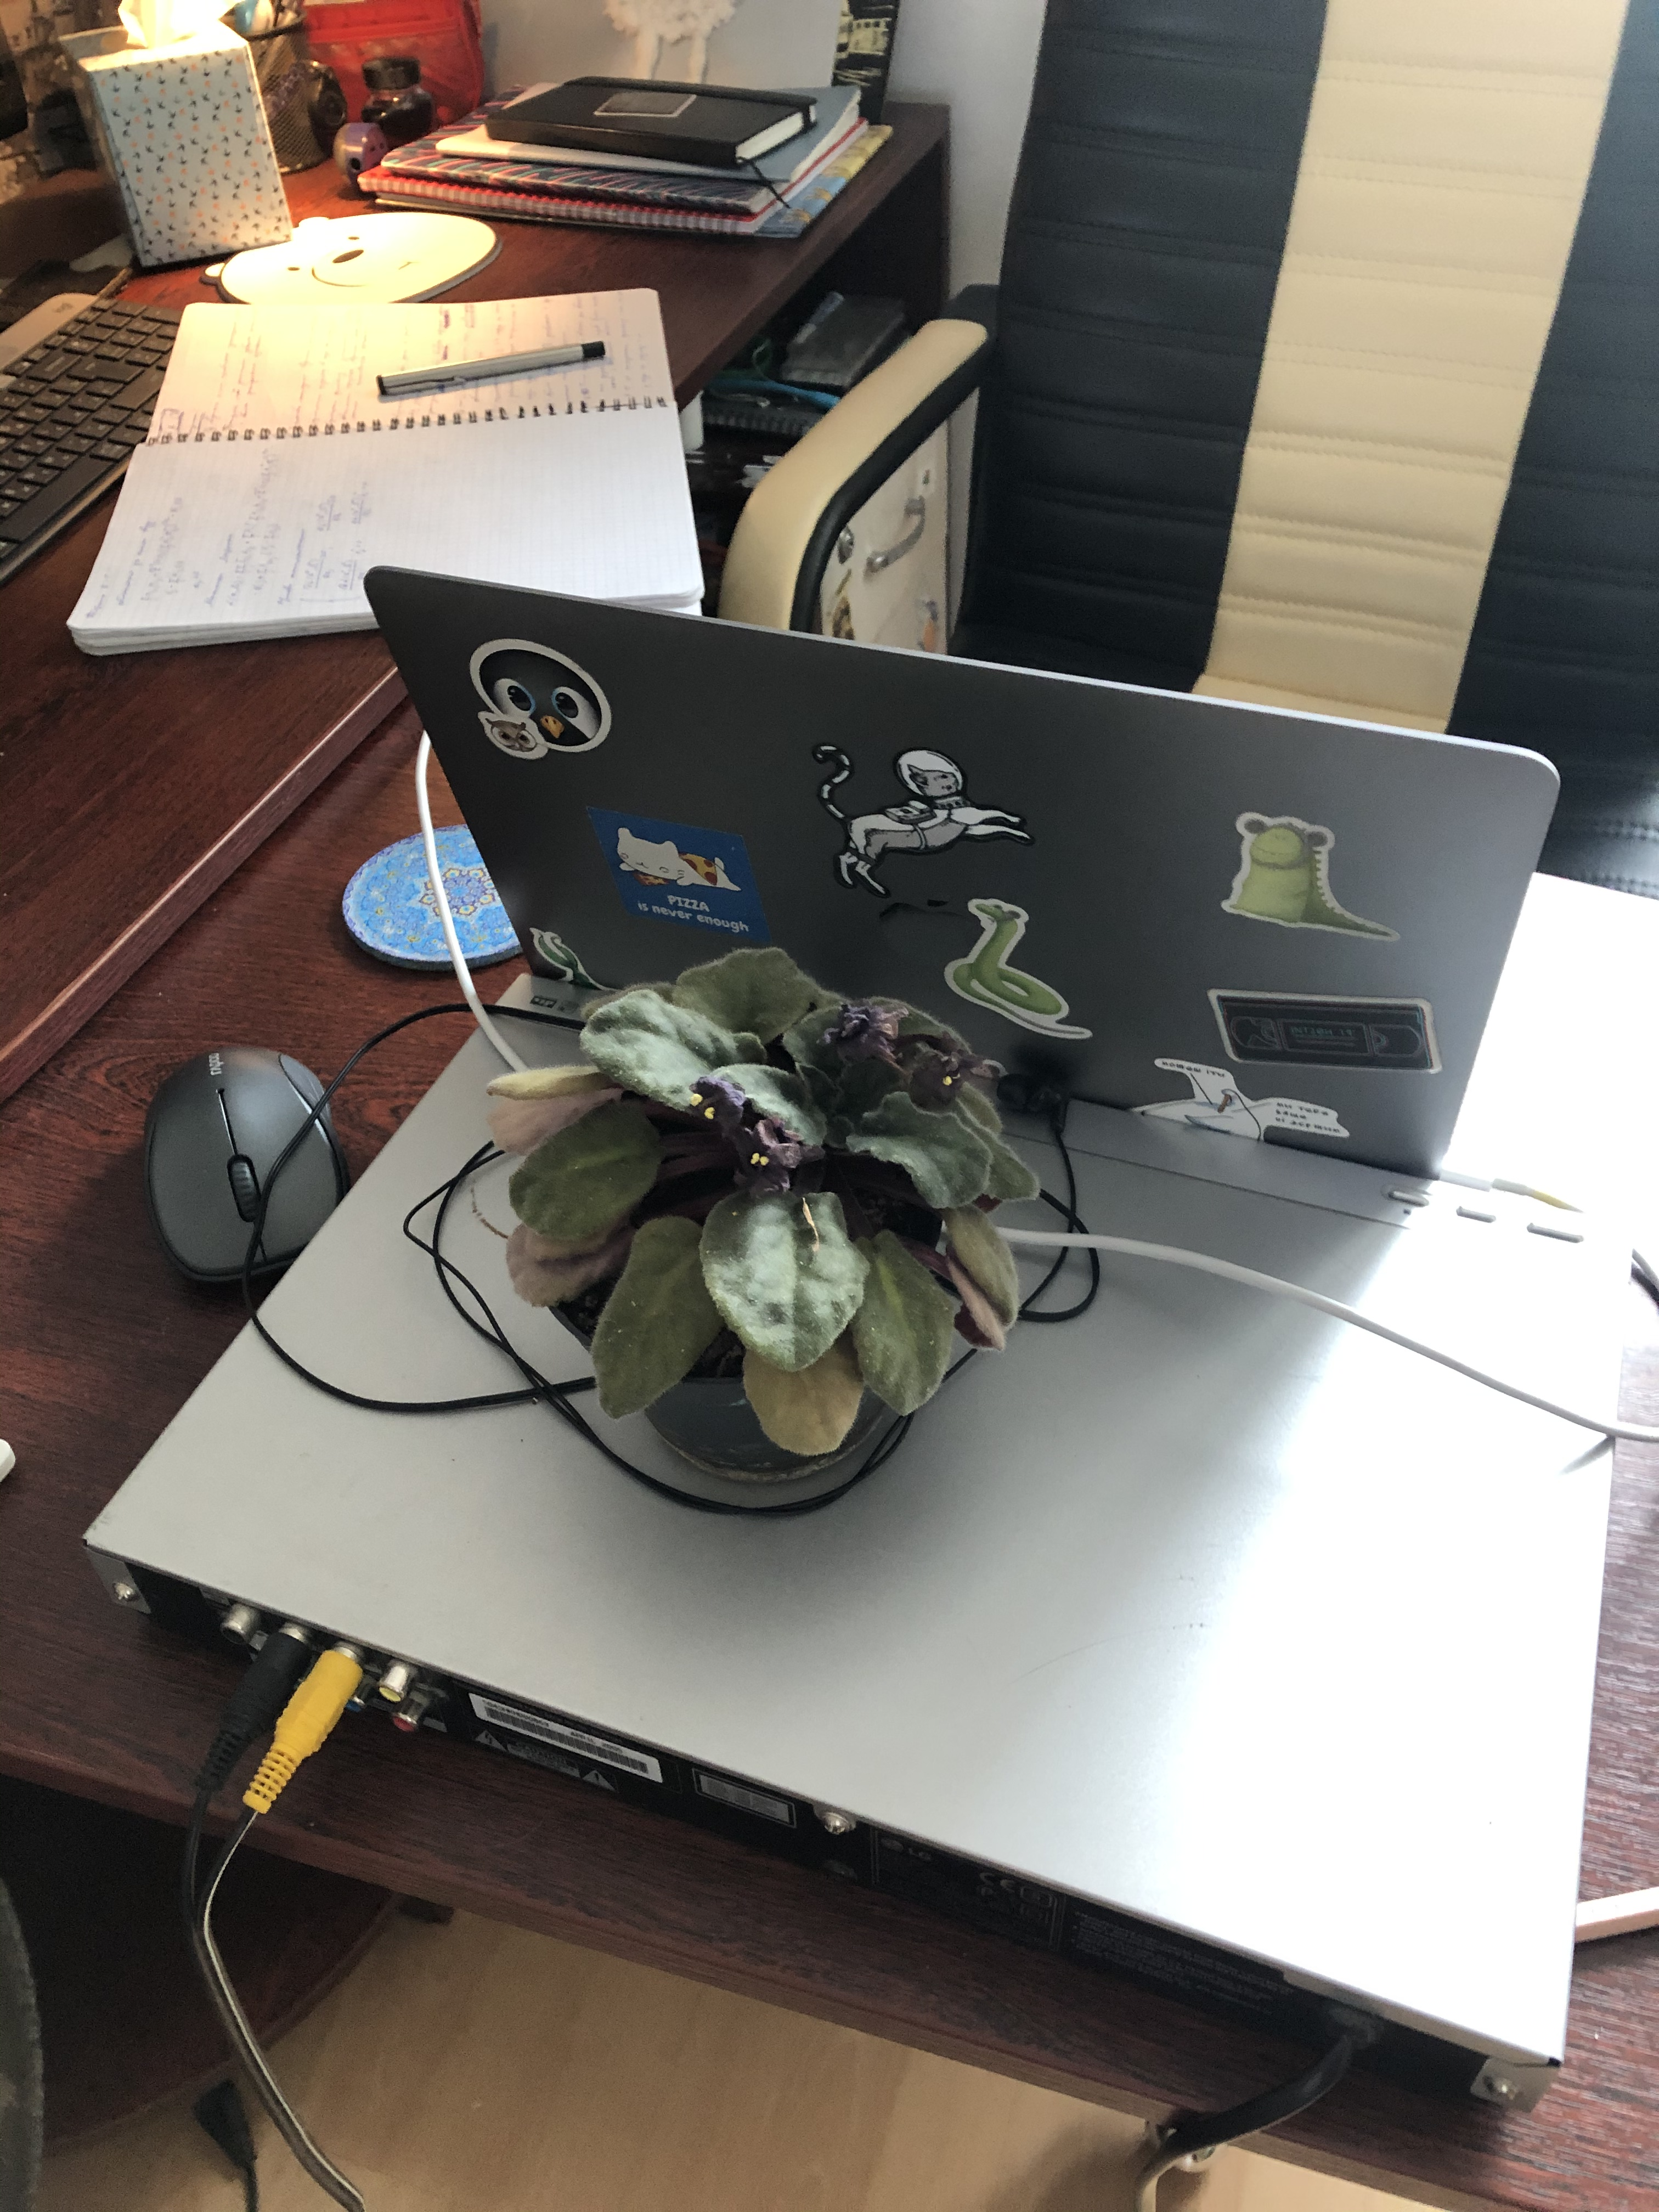ignore: (476, 954, 1044, 1449)
